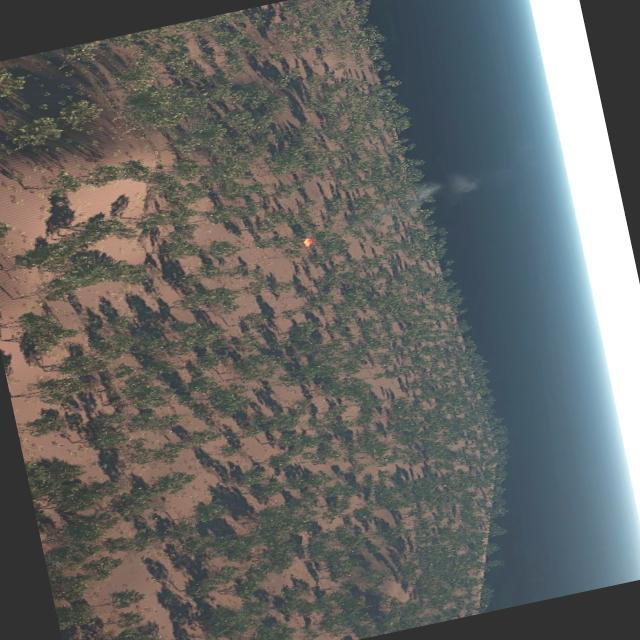fire: (300, 238, 312, 248)
smoke: (350, 156, 520, 226)
